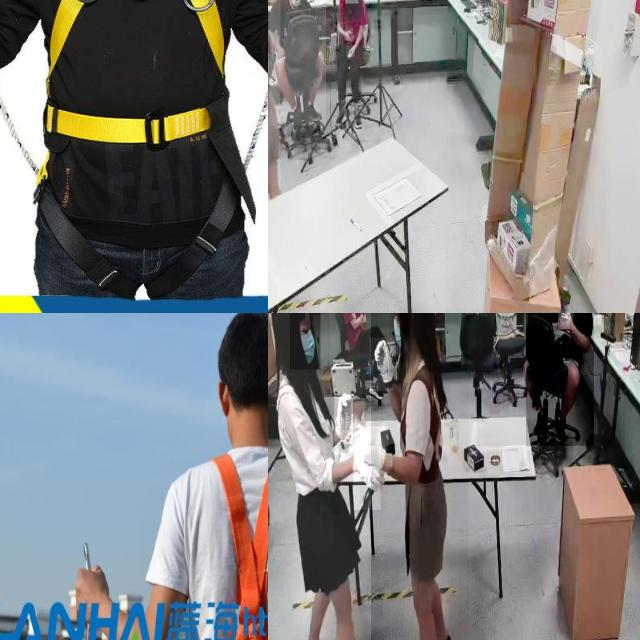Harness: (33, 0, 238, 259), (198, 446, 268, 640)
face_mask: (289, 313, 320, 369), (392, 313, 410, 362)
hand_glove: (354, 446, 381, 510), (360, 426, 388, 477), (369, 337, 394, 391), (335, 397, 353, 444)
hand_noglove: (560, 313, 573, 330), (557, 313, 570, 330), (344, 28, 354, 42), (346, 45, 356, 58), (350, 313, 357, 320), (359, 313, 364, 320)
person: (360, 313, 469, 640), (268, 313, 371, 640), (525, 313, 594, 446), (269, 0, 326, 126), (330, 313, 389, 393), (335, 0, 371, 120)
shoes: (301, 94, 323, 127)
